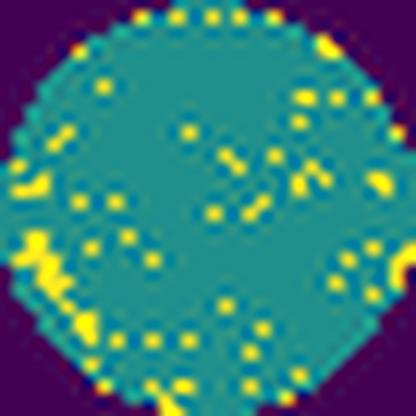Loc: (13, 231, 98, 344)
